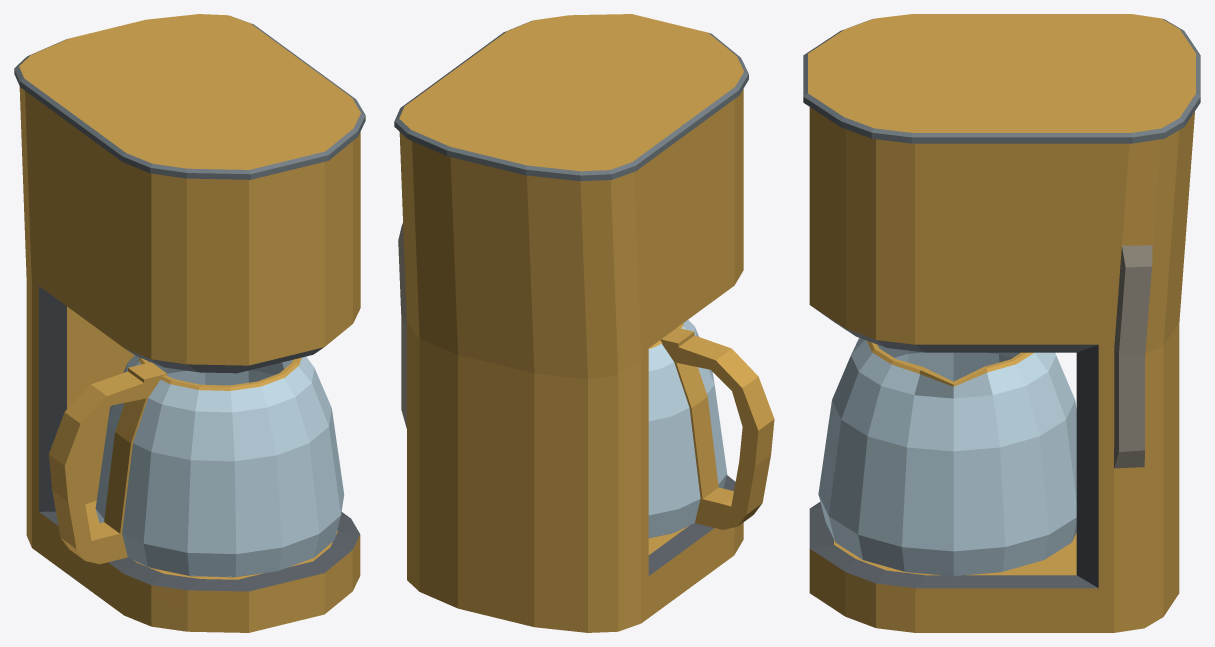
Rendered from coffemaker_02_D.gltf.
3 views of the same model, side by side, from view 1: azimuth 30°, elevation 25°; view 2: azimuth 150°, elevation 25°; view 3: azimuth 270°, elevation 25° (orthographic). The views are drawn at different scales.
Parts seen in each view (by area): view 1: coffemaker_02_D, Kittle_01_D; view 2: coffemaker_02_D, Kittle_01_D; view 3: coffemaker_02_D, Kittle_01_D.
Part boxes in pixels (box(x1,y1,x2,y2)): coffemaker_02_D: box(14, 14, 365, 632); Kittle_01_D: box(48, 355, 344, 577); coffemaker_02_D: box(394, 14, 748, 632); Kittle_01_D: box(648, 320, 774, 538); coffemaker_02_D: box(803, 14, 1200, 632); Kittle_01_D: box(818, 338, 1076, 576).
Size of the model in its own units: 0.22 by 0.3466 by 0.2492.
Materials: 1 (1 with a texture image).
